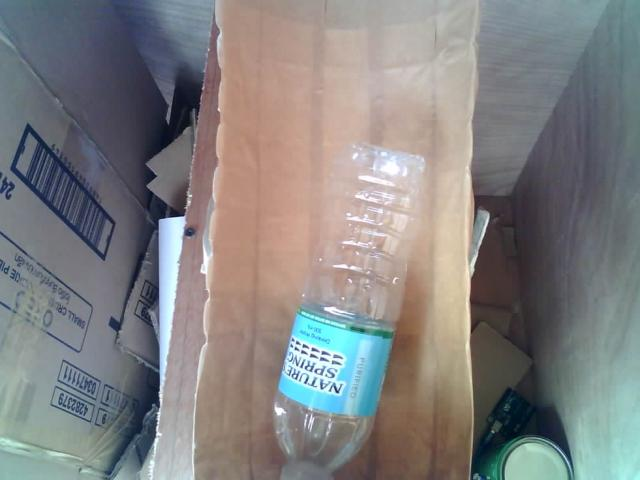small_bottle: (263, 125, 436, 480)
